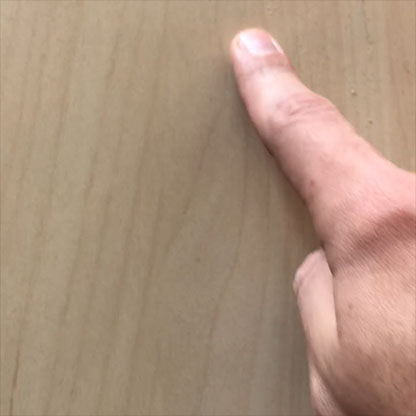fingertip: (219, 17, 295, 78)
